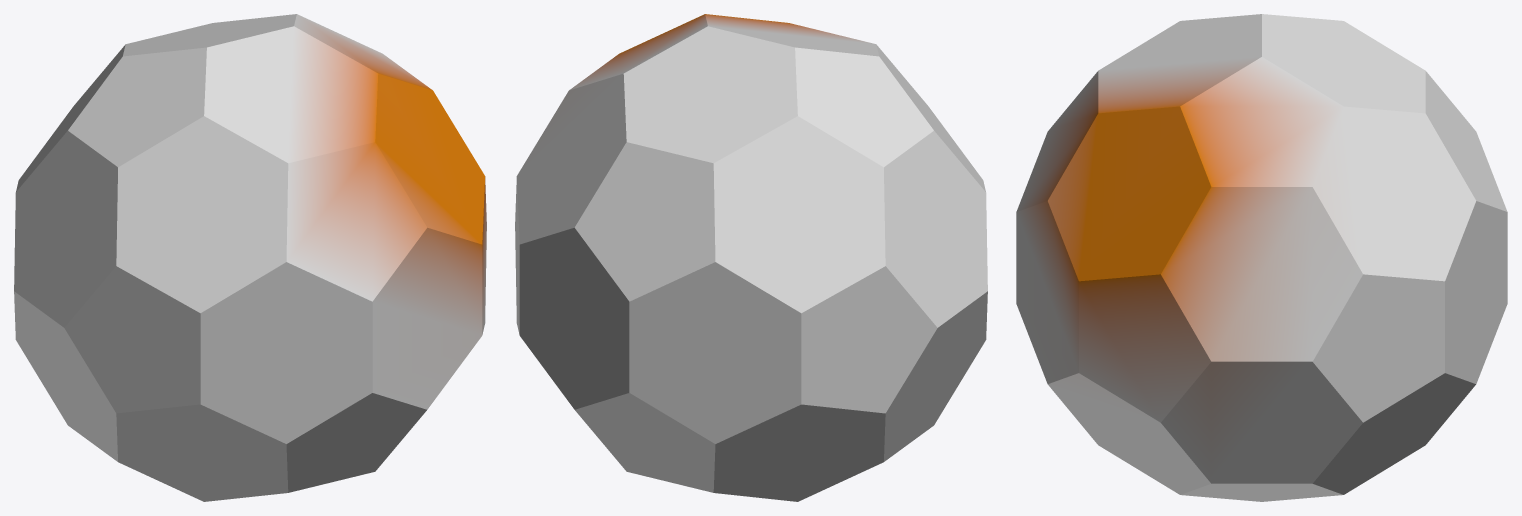
The model's file is ball-truncated-icosahedron.fbx.
3 renders of one model, left to right at view 1: azimuth 30°, elevation 25°; view 2: azimuth 150°, elevation 25°; view 3: azimuth 270°, elevation 25°, orthographic.
Parts seen in each view (by area): view 1: ball-truncated-icosahedron; view 2: ball-truncated-icosahedron; view 3: ball-truncated-icosahedron.
Boxes of the visible parts, bbox=[...] form: ball-truncated-icosahedron: bbox=[14, 14, 486, 501]; ball-truncated-icosahedron: bbox=[515, 14, 987, 501]; ball-truncated-icosahedron: bbox=[1016, 14, 1507, 501].
Size of the model in its own units: 1361 by 1361 by 1361.
